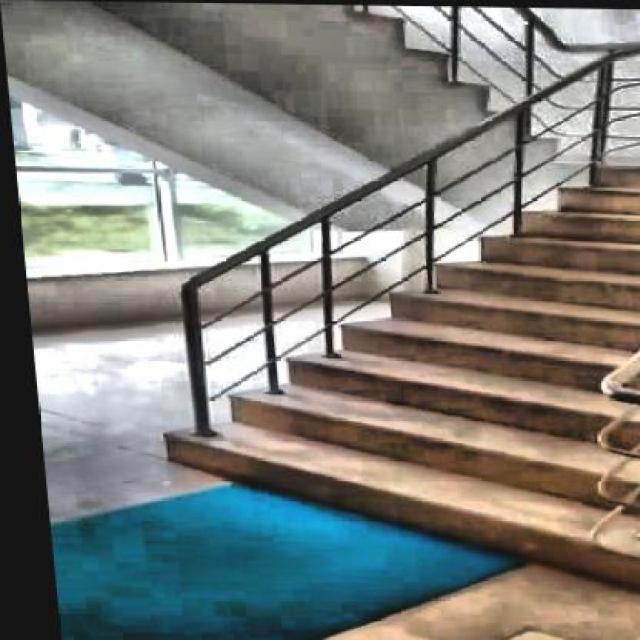stair: (130, 136, 638, 584)
